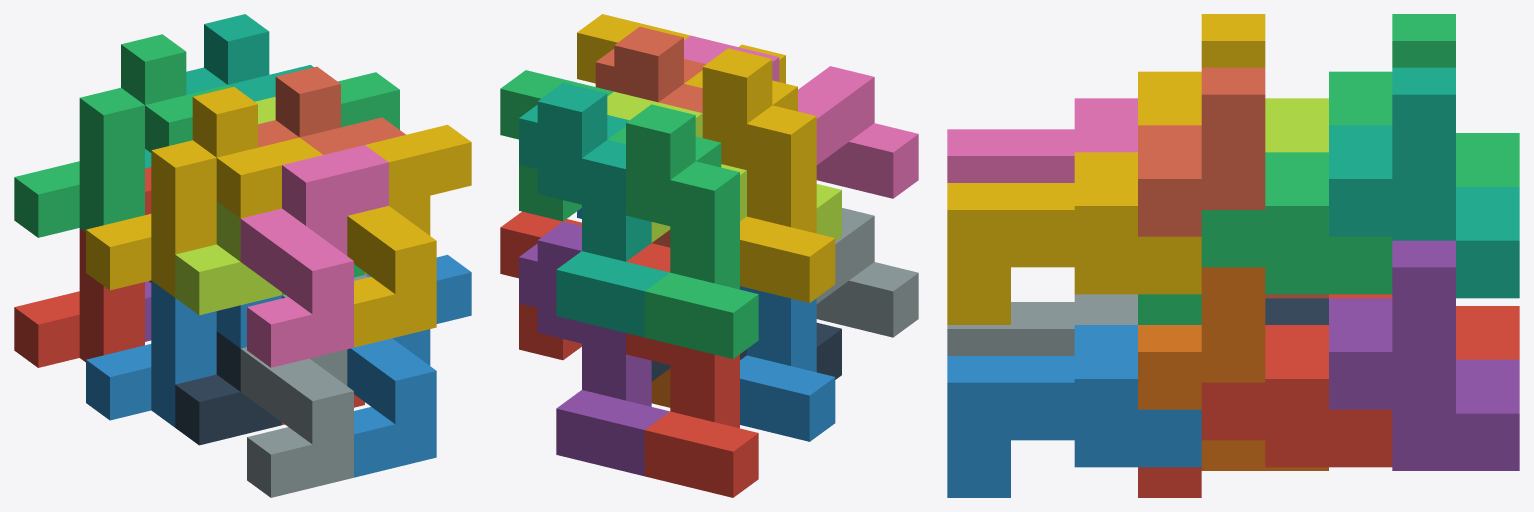
The model's file is tiling.obj.
3 renders of one model, left to right at view 1: azimuth 30°, elevation 25°; view 2: azimuth 150°, elevation 25°; view 3: azimuth 270°, elevation 25°, orthographic. The views are drawn at different scales.
Visible parts, largest first — view 1: copy_2_domain_4, copy_1_domain_4, copy_1_domain_3, copy_2_domain_8, copy_2_domain_2, copy_2_domain_6, copy_1_domain_2, copy_1_domain_1, copy_1_domain_8, copy_2_domain_3, copy_2_domain_1, copy_1_domain_7 (+1 smaller); view 2: copy_1_domain_3, copy_1_domain_4, copy_1_domain_7, copy_1_domain_5, copy_1_domain_1, copy_2_domain_4, copy_1_domain_2, copy_2_domain_2, copy_1_domain_8, copy_2_domain_7, copy_2_domain_5, copy_2_domain_3 (+3 smaller); view 3: copy_1_domain_5, copy_2_domain_6, copy_2_domain_8, copy_1_domain_7, copy_2_domain_5, copy_2_domain_7, copy_1_domain_8, copy_1_domain_6, copy_1_domain_3, copy_2_domain_4, copy_2_domain_2, copy_1_domain_4 (+3 smaller).
Part boxes in pixels (box(x1,y1,x2,y2)): copy_2_domain_4: box(240, 145, 388, 367); copy_1_domain_4: box(86, 87, 322, 297); copy_1_domain_3: box(14, 34, 230, 237); copy_2_domain_8: box(347, 124, 471, 347); copy_2_domain_2: box(240, 275, 367, 497); copy_2_domain_6: box(347, 254, 471, 477); copy_1_domain_2: box(86, 280, 281, 427); copy_1_domain_1: box(14, 167, 151, 367); copy_1_domain_8: box(258, 66, 405, 154); copy_2_domain_3: box(175, 96, 281, 315); copy_2_domain_1: box(175, 331, 281, 445); copy_1_domain_7: box(145, 14, 313, 168); copy_1_domain_3: box(607, 104, 758, 358); copy_1_domain_4: box(684, 48, 835, 302); copy_1_domain_7: box(519, 82, 669, 337); copy_1_domain_5: box(519, 221, 669, 476); copy_1_domain_1: box(626, 243, 758, 497); copy_2_domain_4: box(684, 35, 918, 198); copy_1_domain_2: box(740, 286, 835, 441); copy_2_domain_2: box(816, 208, 918, 337); copy_1_domain_8: box(595, 27, 705, 247); copy_2_domain_7: box(500, 70, 613, 221); copy_2_domain_5: box(500, 211, 581, 360); copy_2_domain_3: box(607, 91, 841, 242); copy_1_domain_5: box(1329, 240, 1519, 470); copy_2_domain_6: box(947, 325, 1201, 497); copy_2_domain_8: box(947, 152, 1201, 324); copy_1_domain_7: box(1329, 67, 1519, 298); copy_2_domain_5: box(1138, 325, 1392, 497); copy_2_domain_7: box(1138, 152, 1392, 324); copy_1_domain_8: box(1138, 67, 1328, 298); copy_1_domain_6: box(1138, 267, 1328, 470); copy_1_domain_3: box(1329, 14, 1519, 186); copy_2_domain_4: box(947, 98, 1137, 182); copy_2_domain_2: box(947, 294, 1137, 355); copy_1_domain_4: box(1138, 14, 1265, 125).
Bounding box in the file's own units: 7 × 7 × 9.
